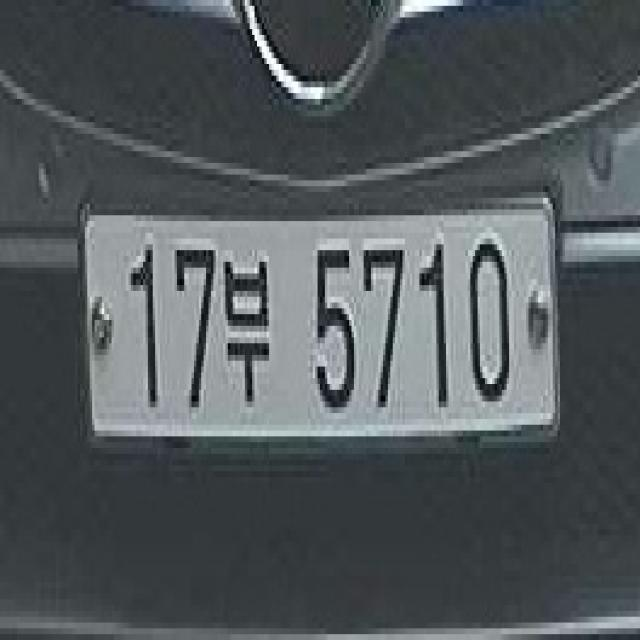0: (463, 221, 514, 419)
1: (412, 232, 458, 430), (126, 233, 170, 436)
5: (310, 227, 362, 419)
7: (358, 232, 409, 424), (172, 227, 216, 430)
bu: (221, 232, 274, 424)
license_plate: (70, 175, 565, 477)
